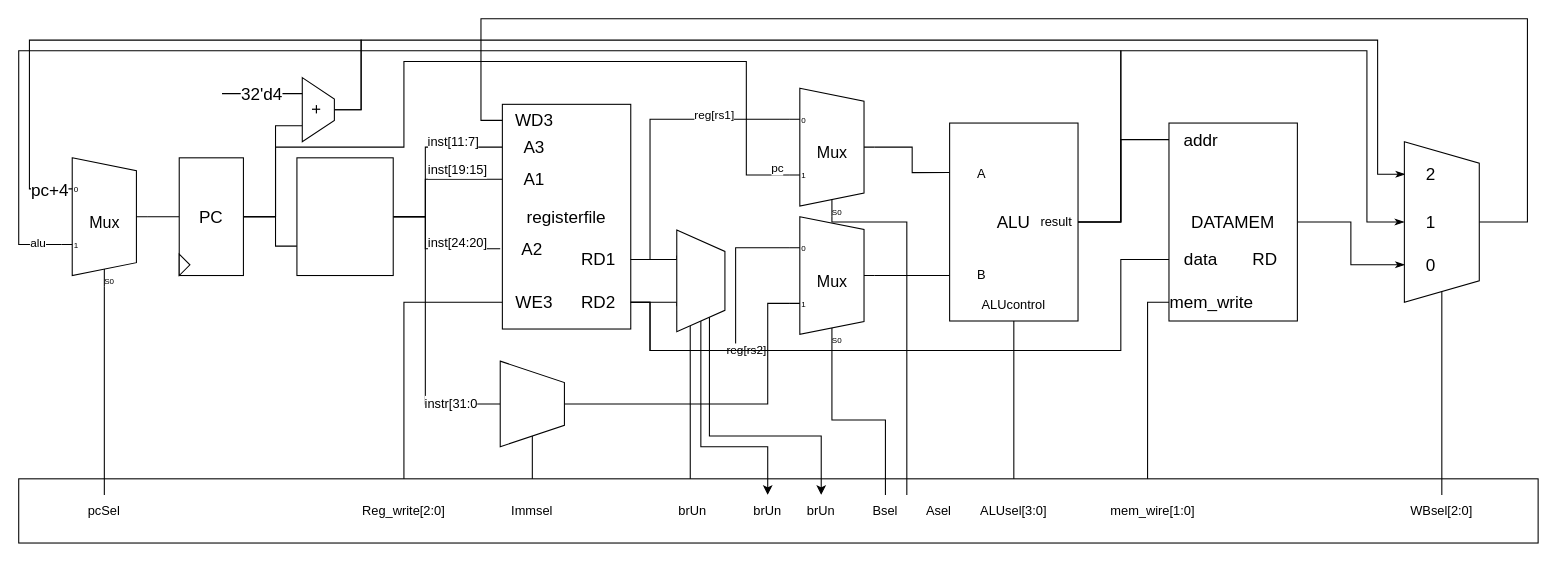
The diagram is 1557 pixels wide and 562 high, and some of its shapes have lost their labels. Each missing label, with the centre of its shape:
"branch comp" goes at [700,280].
"IMEM" goes at [344,216].
"immgen" goes at [531,403].
